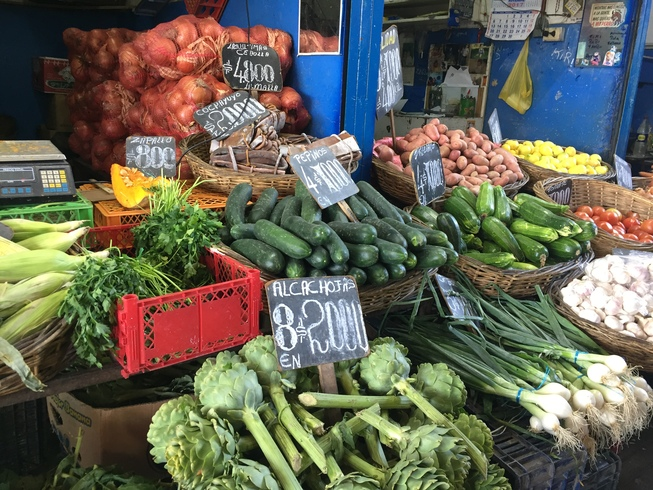precio: (263, 266, 386, 370), (291, 141, 367, 212), (190, 91, 279, 146), (363, 22, 410, 119), (407, 138, 456, 209), (229, 37, 279, 93), (124, 133, 180, 182)
